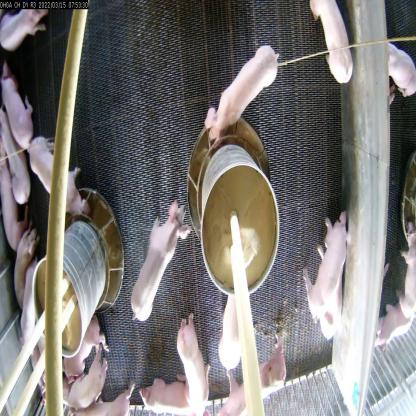Pig: (204, 40, 281, 151), (132, 202, 191, 331), (26, 122, 94, 220), (302, 219, 344, 328), (219, 350, 289, 415), (304, 0, 354, 84), (173, 318, 215, 415), (60, 346, 110, 407), (2, 67, 39, 149), (141, 370, 202, 415), (0, 145, 23, 255), (4, 231, 38, 305), (216, 290, 247, 368), (72, 382, 137, 416)
